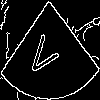V: (25, 25, 65, 83)
